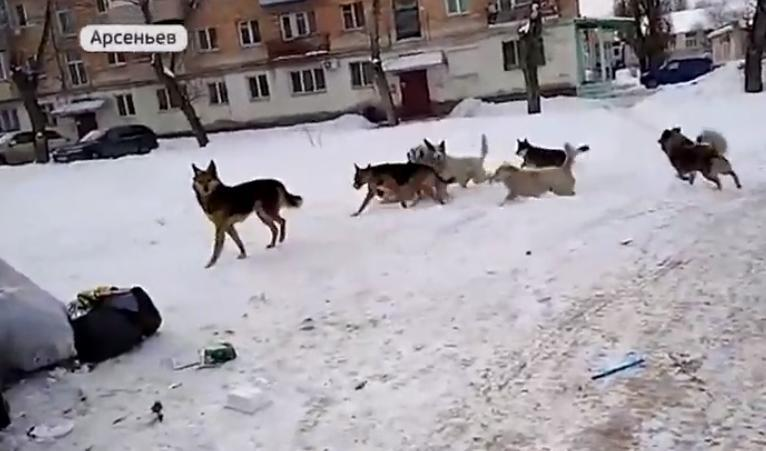normal_dogs: (190, 158, 303, 269), (351, 160, 457, 220), (494, 141, 577, 208), (658, 126, 741, 190), (423, 130, 488, 189), (515, 137, 590, 173)
